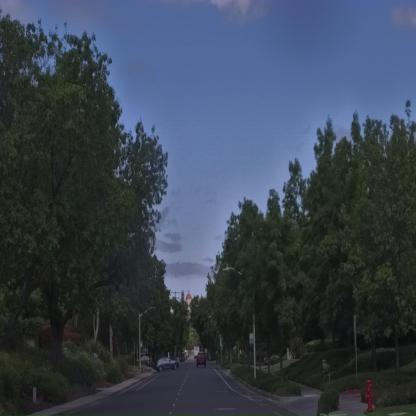car: (156, 358, 179, 372), (196, 350, 207, 368)
person: (363, 380, 374, 414), (320, 360, 330, 382)
truck: (192, 345, 200, 361)
